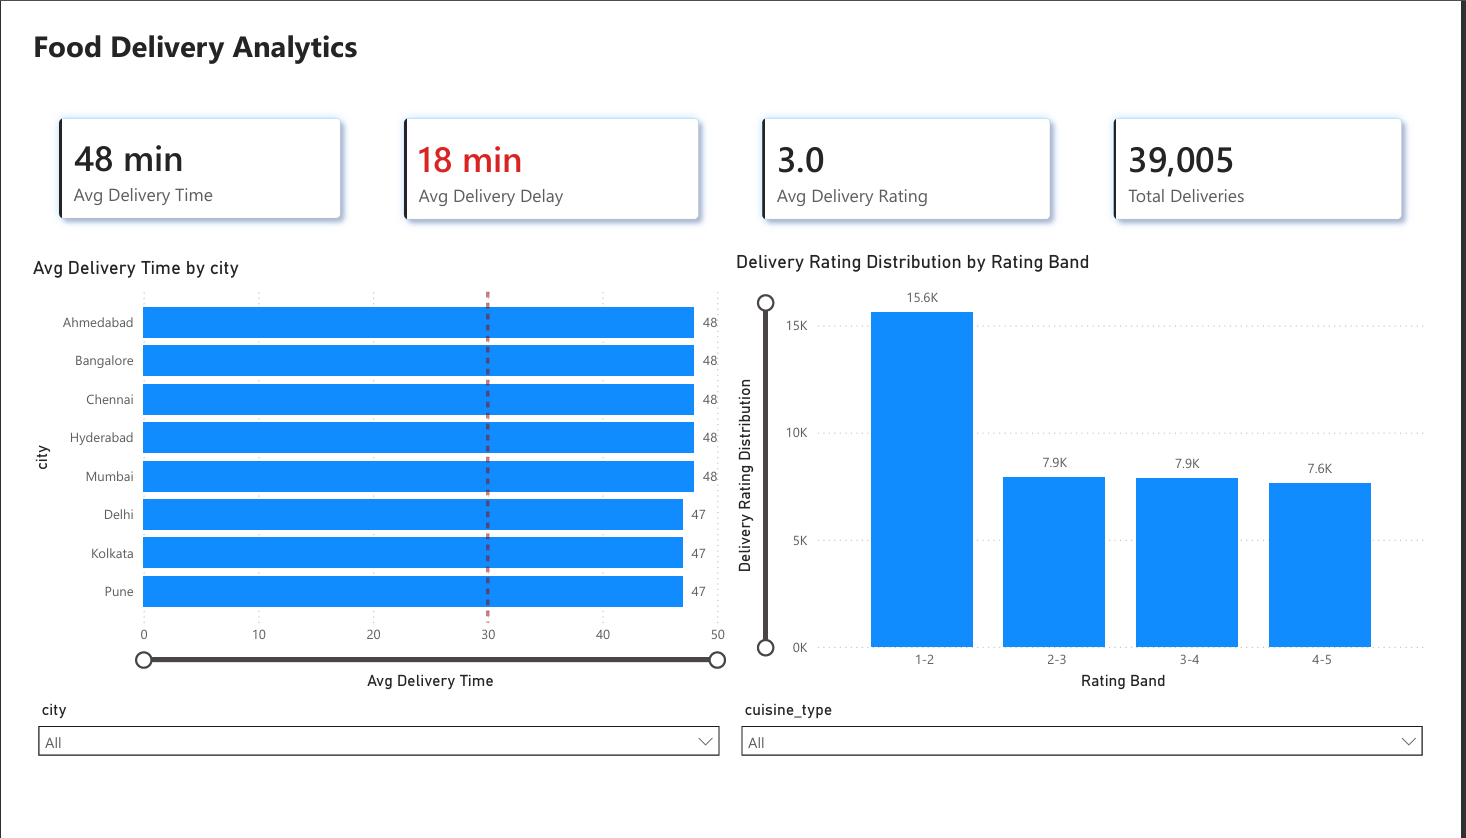

The page's visual inventory and layout, read from the dashboard file:
{"tool":"powerbi","page":{"name":" Delivery Performance","canvas":[1280,720],"ordinal":1},"visuals":[{"type":"textbox","box":[0,0,1280,61.2],"z":0},{"type":"cardVisual","fields":{"Data":["_Measures.Avg Delivery Time Display"]},"box":[0,61.2,314.4,148.9],"z":1000},{"type":"cardVisual","fields":{"Data":["_Measures.Avg Delivery Rating"]},"box":[640,61.2,320,150.3],"z":2000},{"type":"cardVisual","fields":{"Data":["_Measures.Total Deliveries"]},"box":[960,61.2,320,150.3],"z":3000},{"type":"cardVisual","fields":{"Data":["_Measures.Avg Delivery Delay"]},"box":[314.4,61.2,325.6,150.3],"z":4000},{"type":"clusteredBarChart","fields":{"Category":["customers.city"],"Y":["_Measures.Avg Delivery Time Numeric"]},"box":[0,215.7,640,399.3],"z":5000},{"type":"clusteredColumnChart","fields":{"Category":["delivery.Rating Band"],"Y":["CountNonNull(delivery.delivery_id)"]},"box":[640,210.1,640,404.9],"z":6000},{"type":"slicer","fields":{"Values":["customers.city"]},"box":[0,615,640,105.7],"z":7000},{"type":"slicer","fields":{"Values":["restaurants.cuisine_type"]},"box":[640,615,640,105.7],"z":8000}]}

Visuals, with their boxes in screenshot pixels (x1, y1, x2, y2), scaled from the page's 1280x720 canvas onto the 1466x838 screenshot:
textbox: l=0, t=0, r=1465, b=71
cardVisual - _Measures.Avg Delivery Time Display: l=0, t=71, r=360, b=245
cardVisual - _Measures.Avg Delivery Rating: l=733, t=71, r=1100, b=246
cardVisual - _Measures.Total Deliveries: l=1100, t=71, r=1465, b=246
cardVisual - _Measures.Avg Delivery Delay: l=360, t=71, r=733, b=246
clusteredBarChart - customers.city x _Measures.Avg Delivery Time Numeric: l=0, t=251, r=733, b=716
clusteredColumnChart - delivery.Rating Band x CountNonNull(delivery.delivery_id): l=733, t=245, r=1465, b=716
slicer - customers.city: l=0, t=716, r=733, b=837
slicer - restaurants.cuisine_type: l=733, t=716, r=1465, b=837
